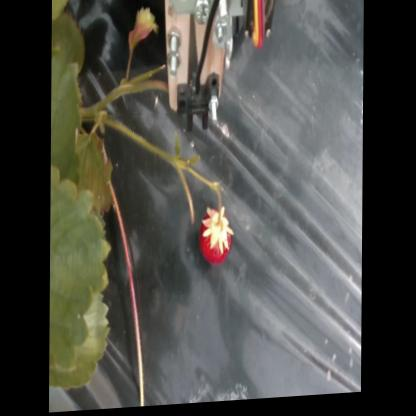ripe: (198, 201, 237, 269)
